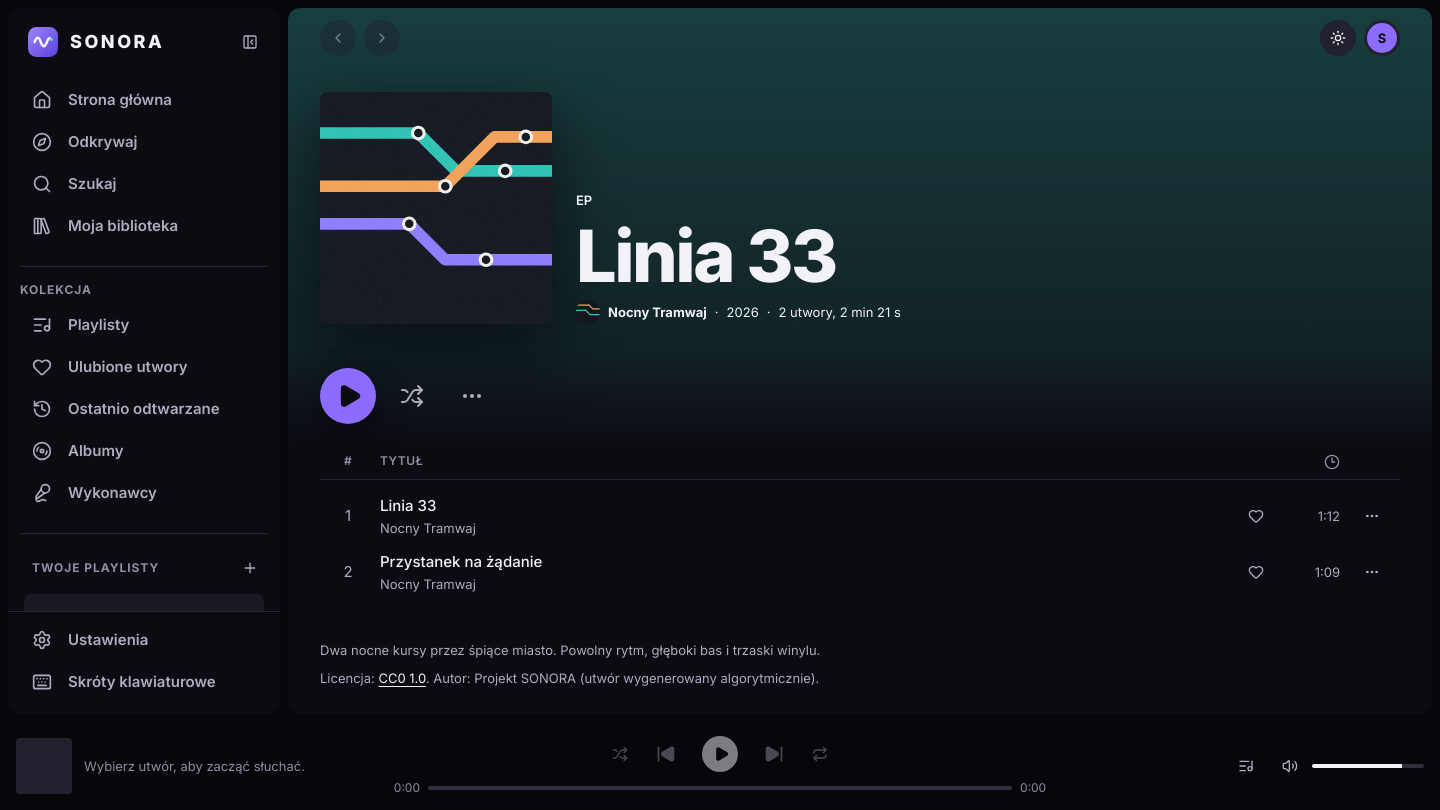
Test: ulubione utwory › stan serca jest spójny na liście i w odtwarzaczu, a ulubione trafiają na listę
Click the button named "Odtwórz: Linia 33": (348, 396) [320,368,376,424]
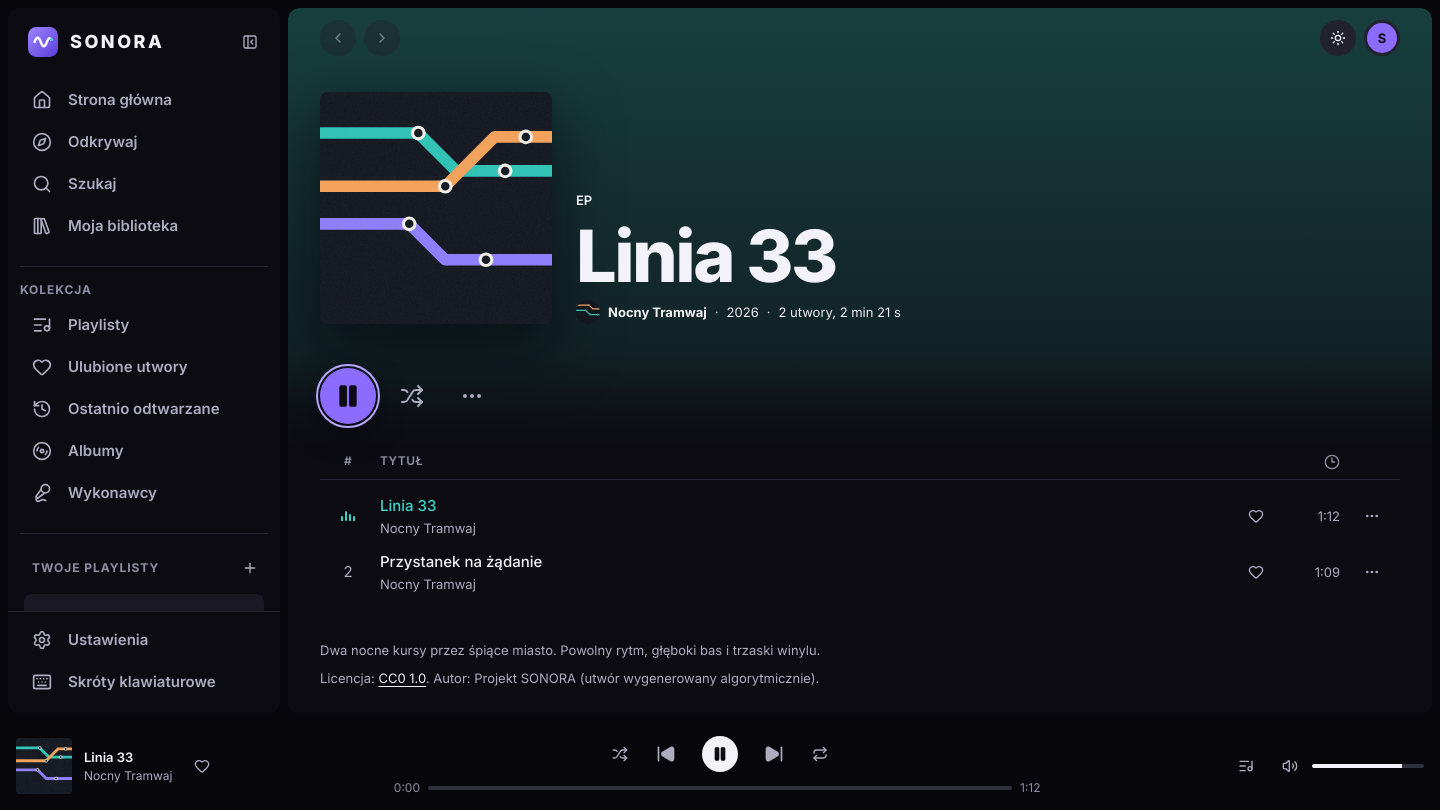
Click the 1st button named "Dodaj „Linia 33” do ulubionych": (1256, 516) [1238,498,1274,534]
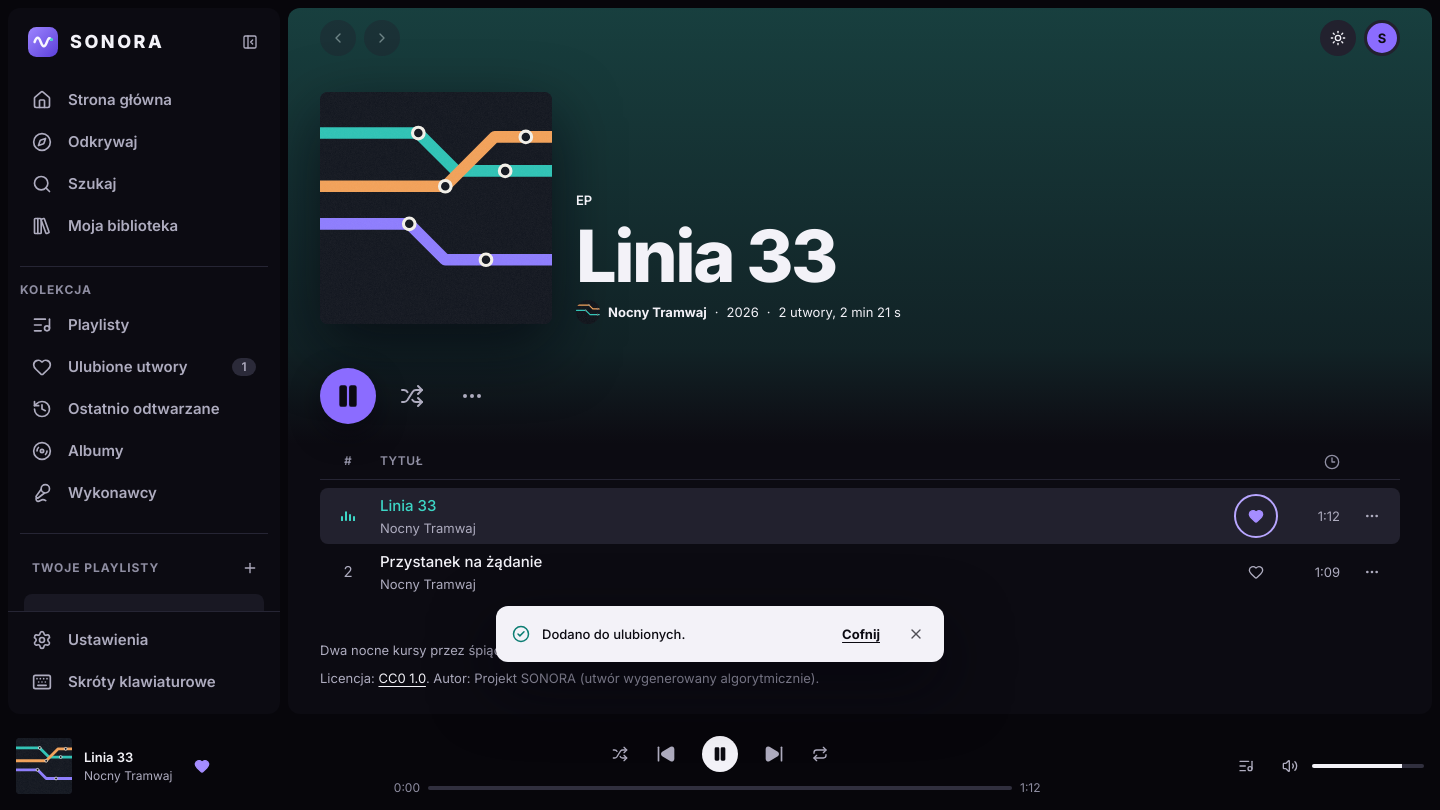
Result: the button named "Usuń „Linia 33” z ulubionych" in the row of "0:00" is pressed at [184,748,220,784]
Click the link "Ulubione utwory 1": (144, 367) [32,357,256,377]
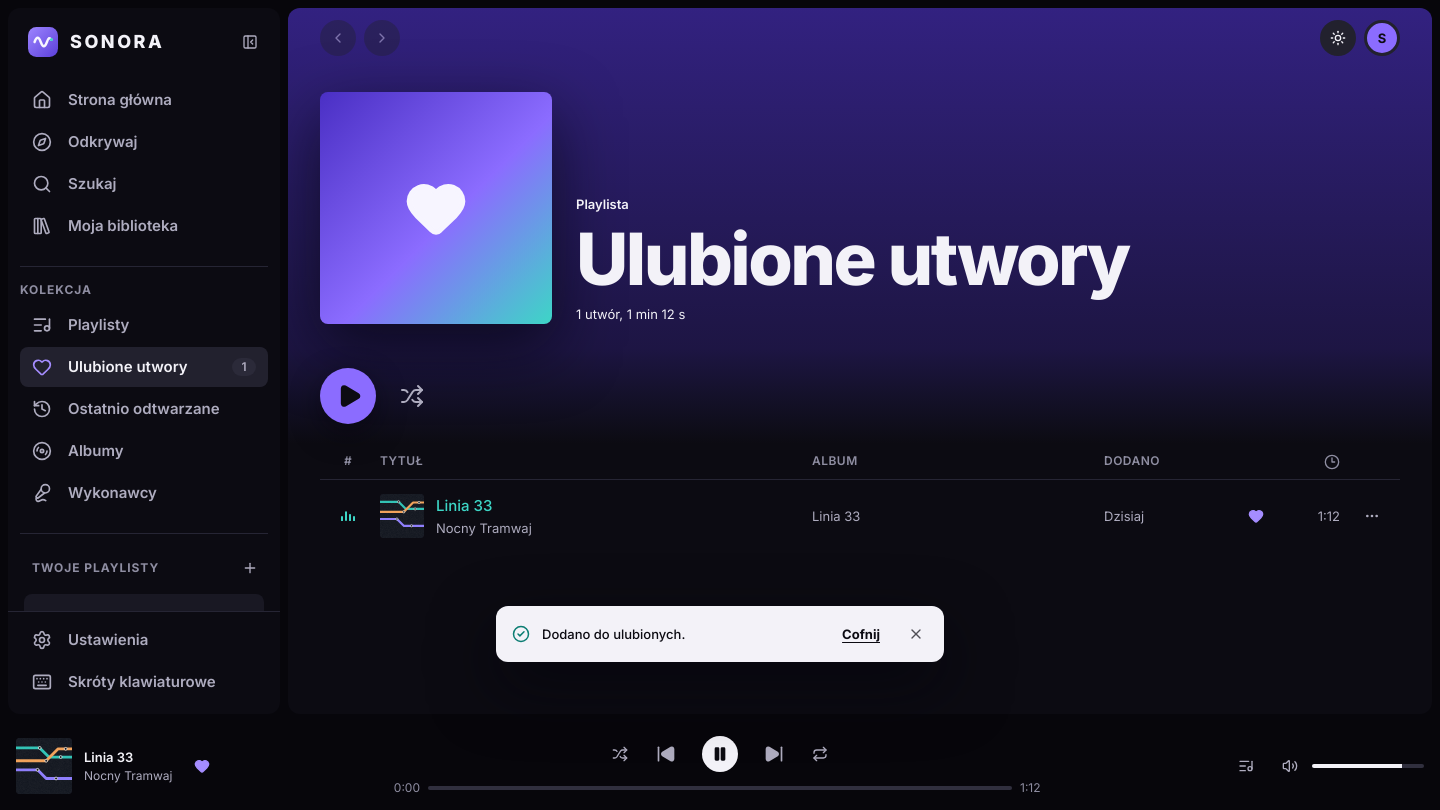
Click the button named "Usuń „Linia 33” z ulubionych" in the row of "0:00": (202, 766) [184,748,220,784]
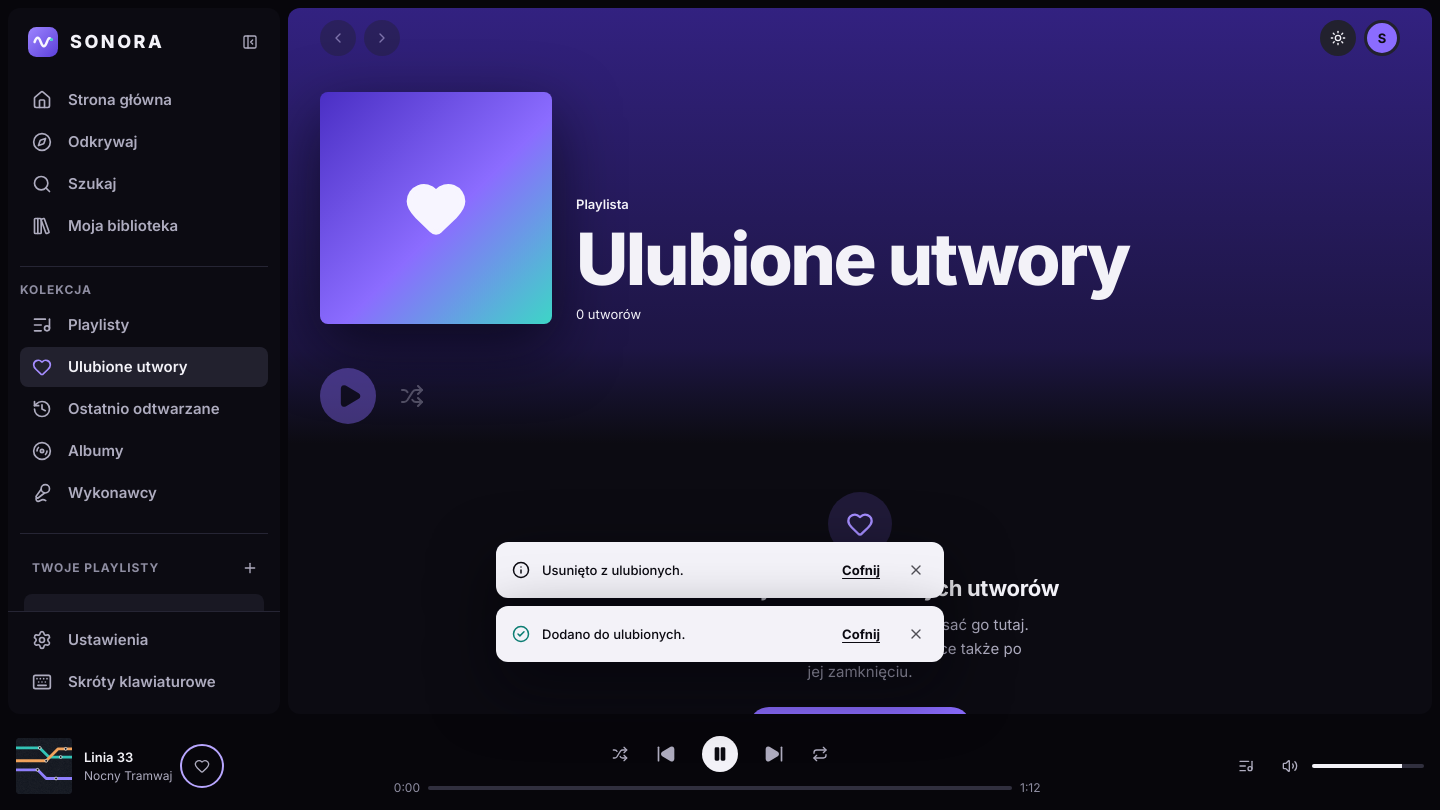
Result: the heading "Nie masz jeszcze ulubionych utworów" is shown at [661,576,1059,601]
